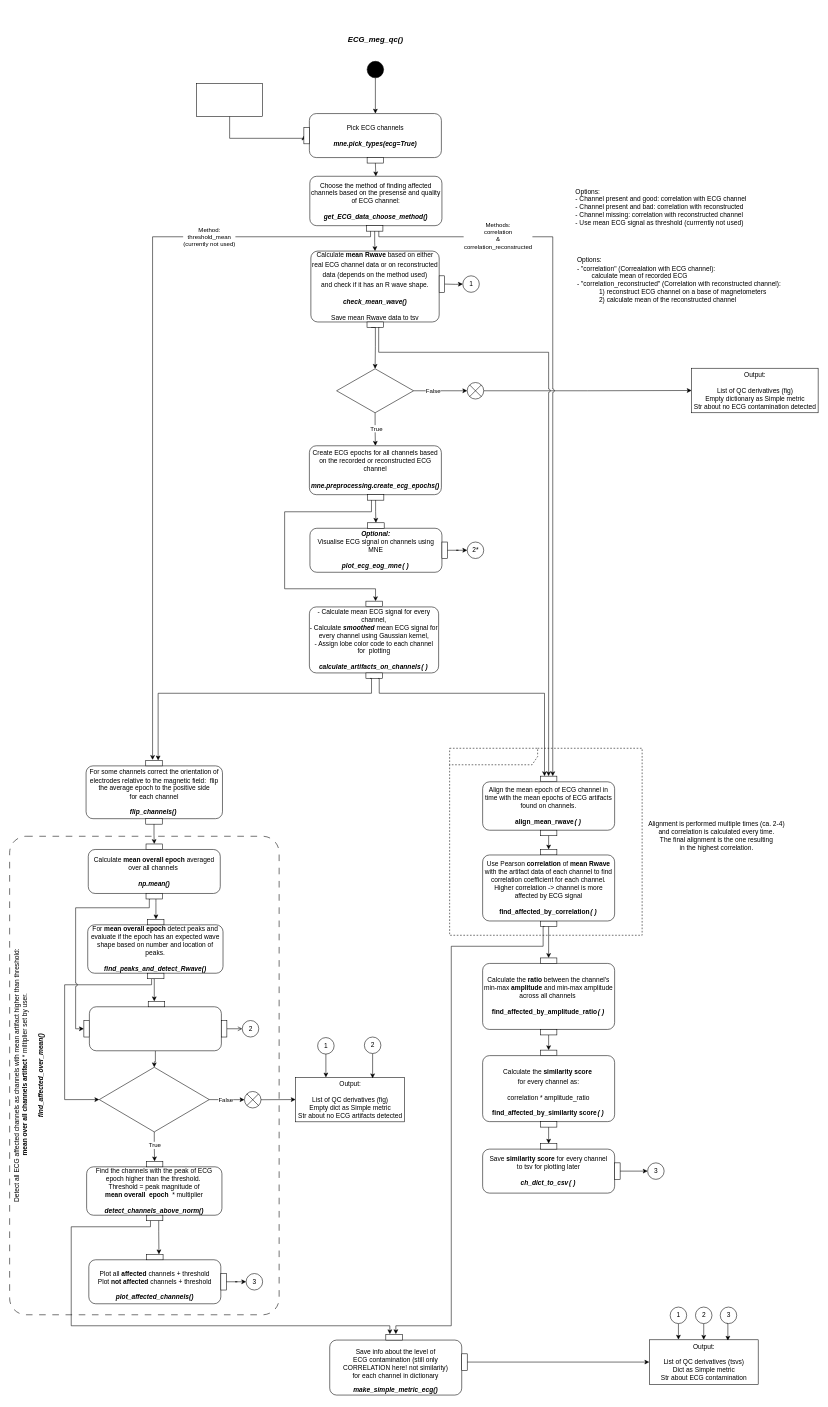
The diagram is 828 pixels wide and 1407 high, and some of its shapes have lost their labels. The shapes that lost their labels are listed below. From the top down, each one's centre as x and y in pixels, then its label:
(x=229, y=99): Input: Raw data, Config parameters
(x=375, y=390): Mean R wave is good?
(x=545, y=841): For all possible ECG alignment variations:
(x=155, y=1028): Plot mean overall epoch and highlight detected peaks plot_epoch_and_peak()
(x=154, y=1099): Mean overall epoch has expected shape (prominent peak at specific time point)?
